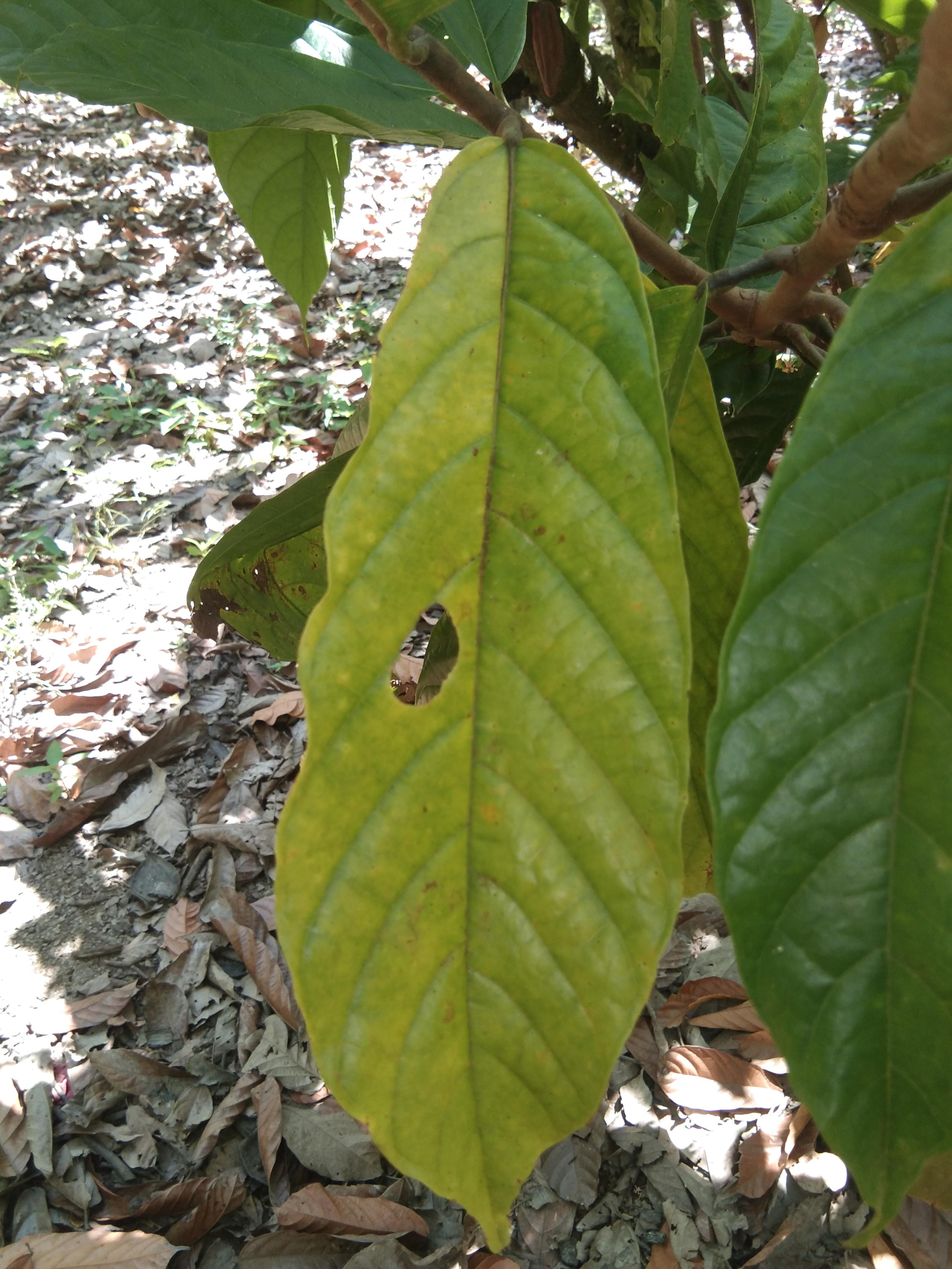deficiencia_potasio: (256, 105, 726, 1263)
